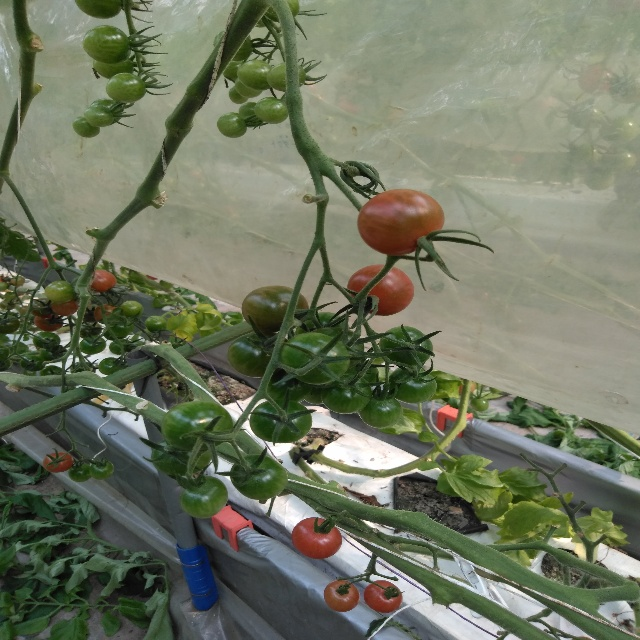l_fully_ripened: (347, 264, 414, 316), (291, 517, 342, 560), (363, 579, 403, 613), (43, 452, 74, 473)
l_green: (161, 401, 234, 451), (281, 333, 350, 385), (227, 331, 289, 378), (249, 399, 313, 443), (230, 454, 288, 500), (305, 326, 364, 370), (379, 325, 434, 367), (151, 438, 211, 476), (180, 475, 229, 519), (320, 373, 371, 414), (82, 25, 131, 64), (387, 367, 437, 404), (357, 390, 403, 428), (266, 368, 312, 403), (295, 311, 351, 336), (106, 72, 146, 104), (214, 28, 252, 61), (267, 62, 307, 92), (236, 60, 273, 91), (345, 358, 380, 387), (92, 58, 135, 80), (255, 96, 288, 124), (75, 0, 123, 19), (90, 98, 123, 125), (263, 0, 299, 24), (217, 112, 247, 139), (44, 281, 76, 303), (84, 105, 114, 127), (72, 115, 100, 138), (238, 102, 263, 127), (234, 78, 263, 99), (305, 381, 331, 404), (68, 462, 92, 483), (39, 345, 67, 363), (29, 297, 54, 317), (79, 336, 106, 354), (98, 357, 125, 375), (90, 460, 114, 480), (32, 332, 60, 349), (20, 354, 46, 371), (222, 61, 244, 81), (120, 300, 144, 318), (0, 314, 21, 334), (77, 305, 100, 323), (110, 320, 134, 337), (145, 316, 167, 333), (109, 339, 132, 355), (70, 361, 97, 374), (229, 86, 248, 104), (39, 365, 66, 376), (470, 397, 489, 412)
l_half_ripened: (357, 189, 444, 256), (241, 285, 309, 333), (323, 579, 360, 612), (89, 270, 117, 292), (34, 314, 64, 332), (95, 304, 119, 324), (50, 299, 78, 316)
